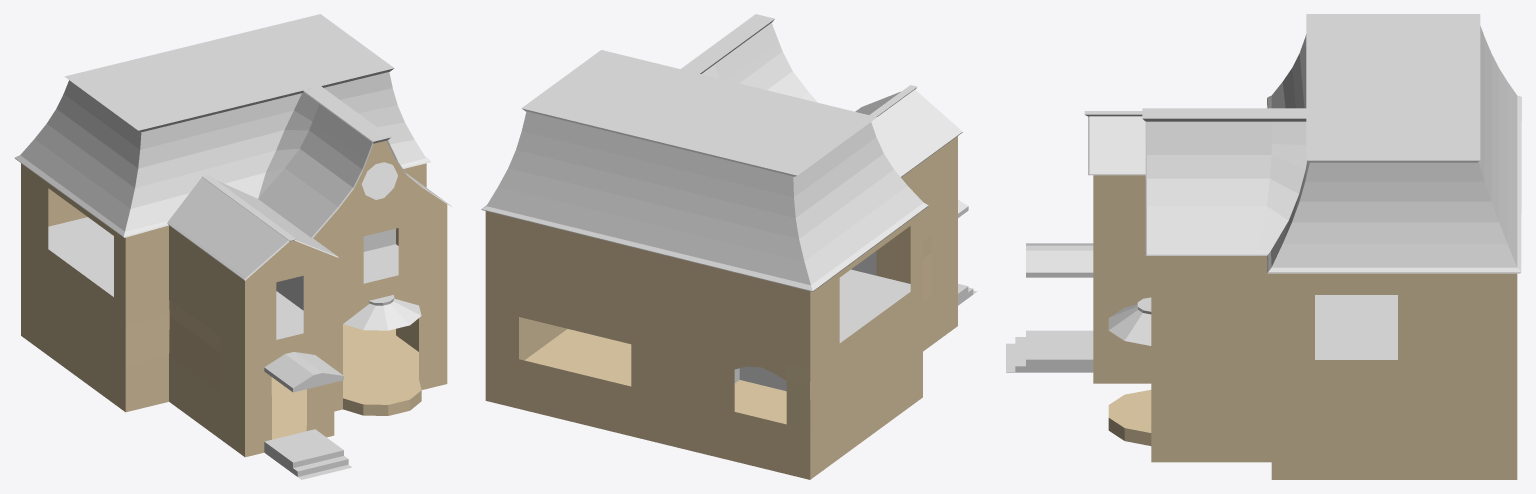
Rendered from Casa espejo respaldo1.fbx.
The picture shows the model from 3 angles, left to right: view 1: azimuth 30°, elevation 25°; view 2: azimuth 150°, elevation 25°; view 3: azimuth 270°, elevation 25°; orthographic projection. The views are drawn at different scales.
Visible parts, largest first — view 1: Paredes, Techo, Piso 2, Entrada piso, Entrada techo, Ventanal techo, Piso Atico; view 2: Paredes, Techo, Piso 2, Pared cocina; view 3: Techo, Paredes, Piso 2, Entrada piso, Entrada techo, Ventanal techo.
Boxes of the visible parts, x1,y1,x2,y2 form: Paredes: [21, 141, 447, 457]; Techo: [14, 14, 452, 280]; Piso 2: [48, 217, 398, 339]; Entrada piso: [264, 429, 351, 479]; Entrada techo: [264, 352, 343, 392]; Ventanal techo: [343, 295, 421, 330]; Piso Atico: [361, 162, 397, 199]; Paredes: [485, 136, 957, 479]; Techo: [481, 14, 962, 291]; Piso 2: [839, 251, 910, 342]; Pared cocina: [734, 366, 786, 391]; Techo: [1084, 14, 1521, 273]; Paredes: [1093, 175, 1517, 479]; Piso 2: [1315, 295, 1397, 359]; Entrada piso: [1006, 330, 1093, 372]; Entrada techo: [1026, 243, 1093, 277]; Ventanal techo: [1108, 297, 1151, 345].
Size of what is drawn, in the model's own units: 20236 by 16570 by 25013.
